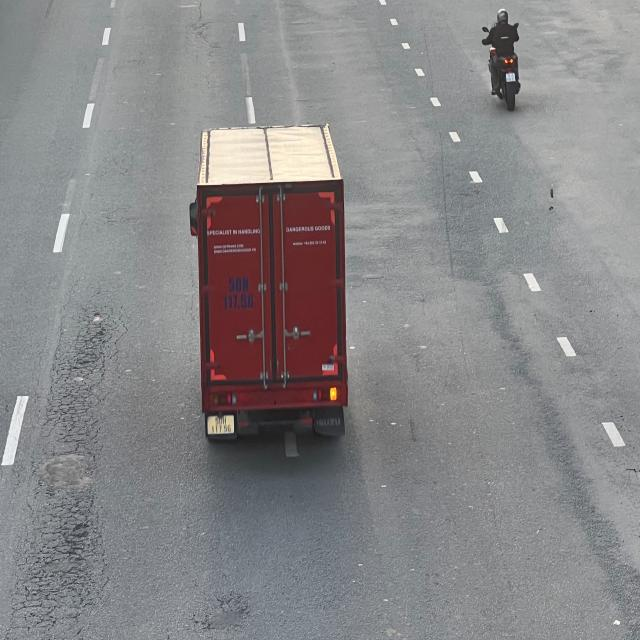truck: (194, 127, 348, 449)
